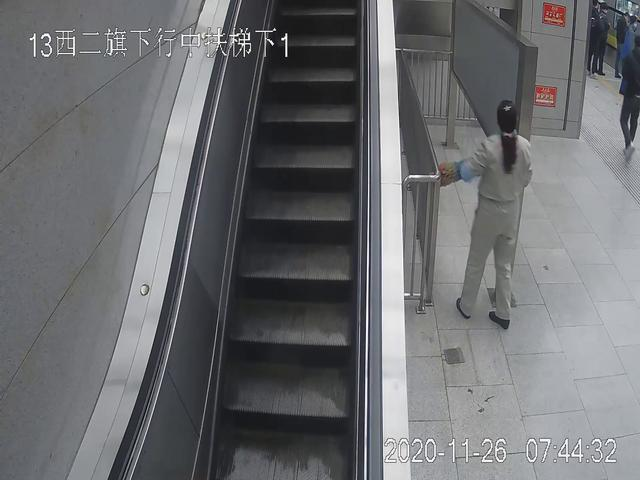person: (437, 100, 533, 331), (618, 35, 640, 164), (591, 3, 609, 76)
